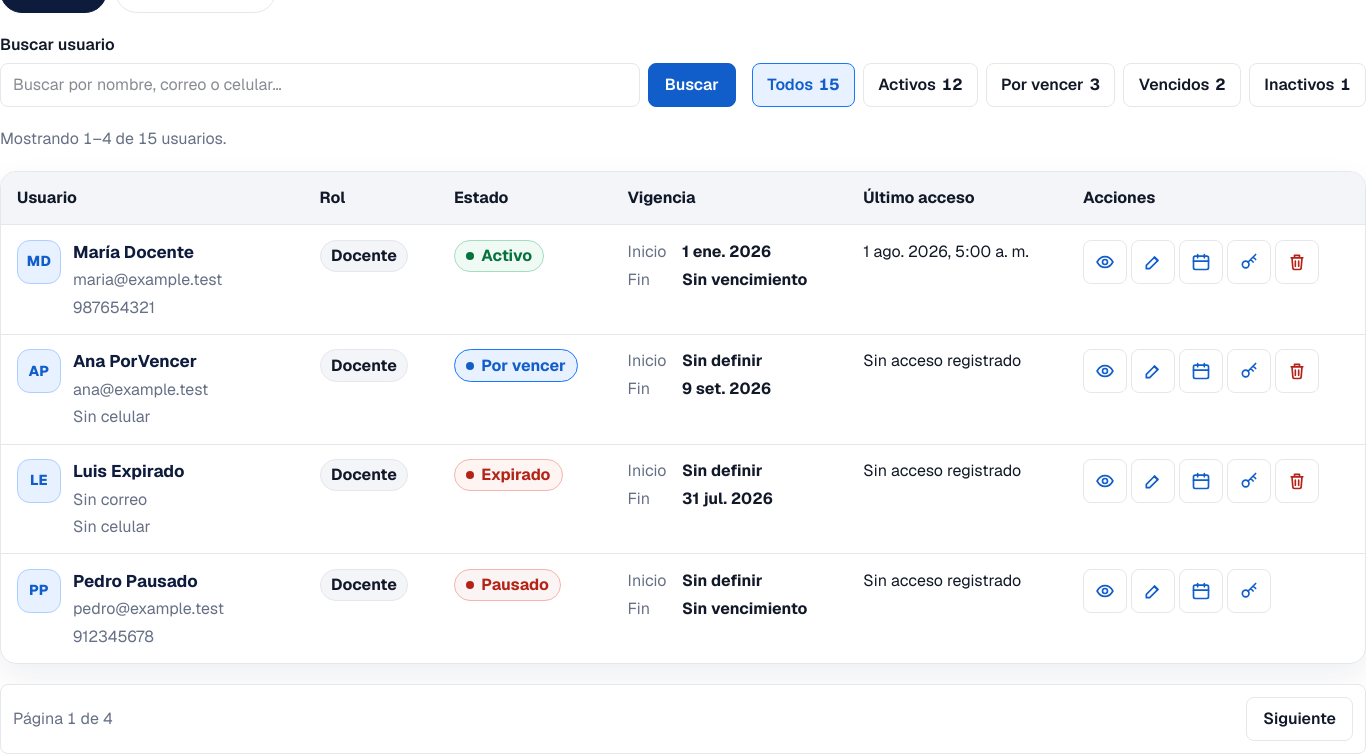
Scenario: UsersManager › la ficha muestra el estado de la cuenta y quién la creó
(page scrolled)
Click the button named "Ver ficha" in the row of "PP".
click(1105, 591)  # box [1083, 569, 1127, 613]
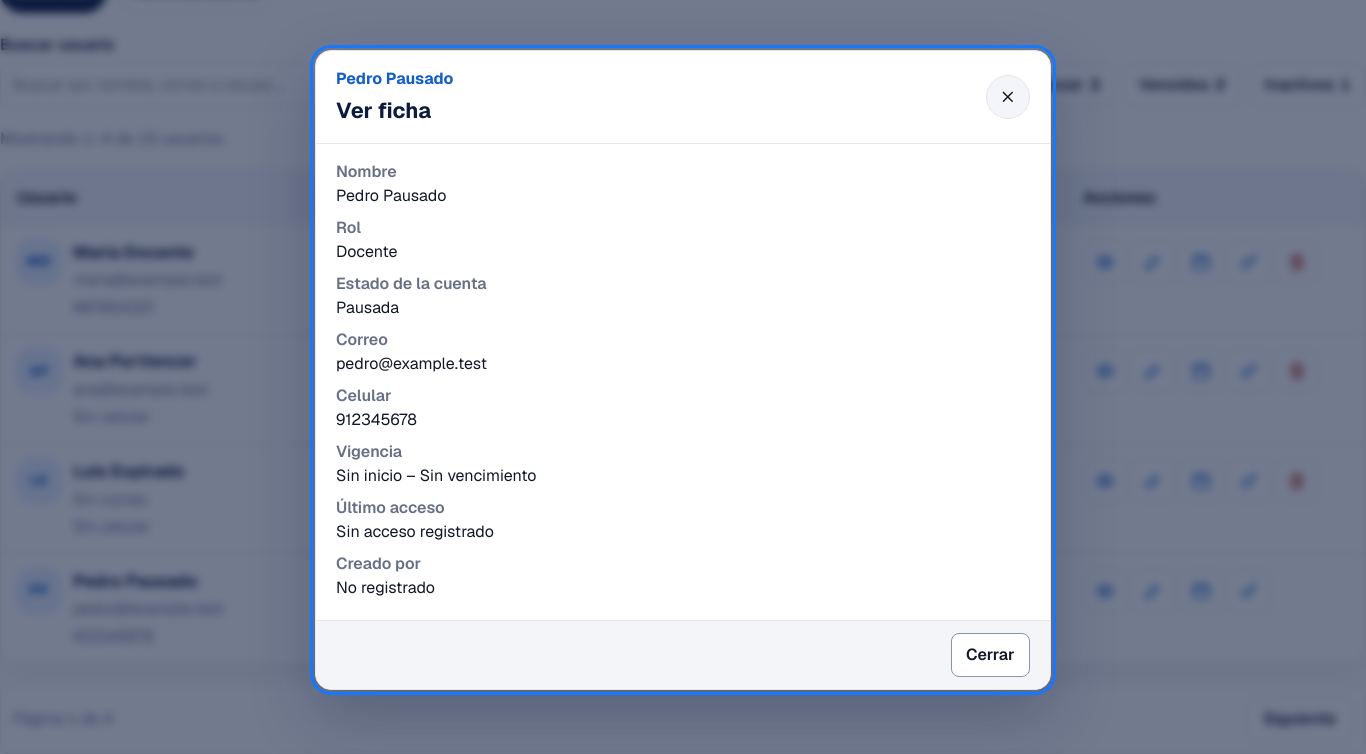
Expected: the text "Estado de la cuenta" is shown, [336, 273, 487, 294]
Expected: the text "Pausada" is shown, [336, 297, 399, 318]
Expected: the text "Creado por" is shown, [336, 553, 421, 574]
